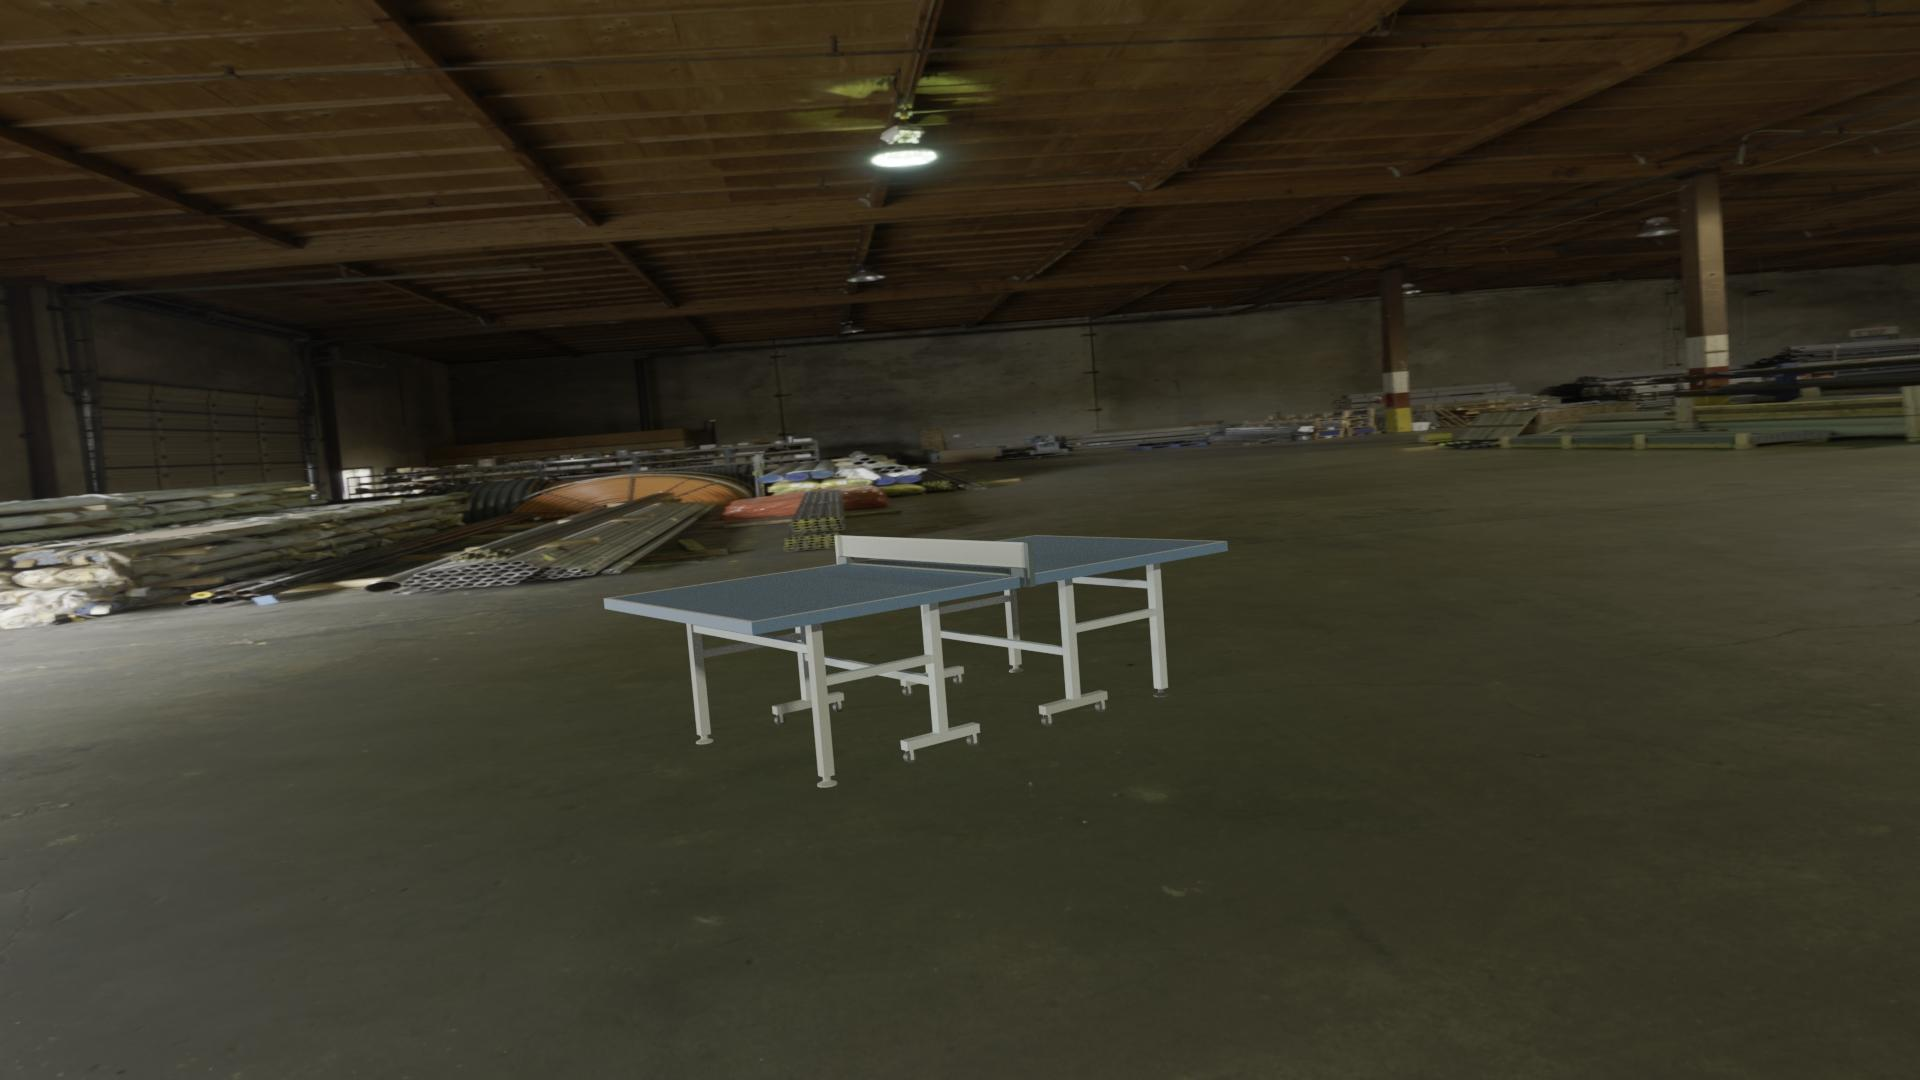table: (609, 535, 1221, 621)
